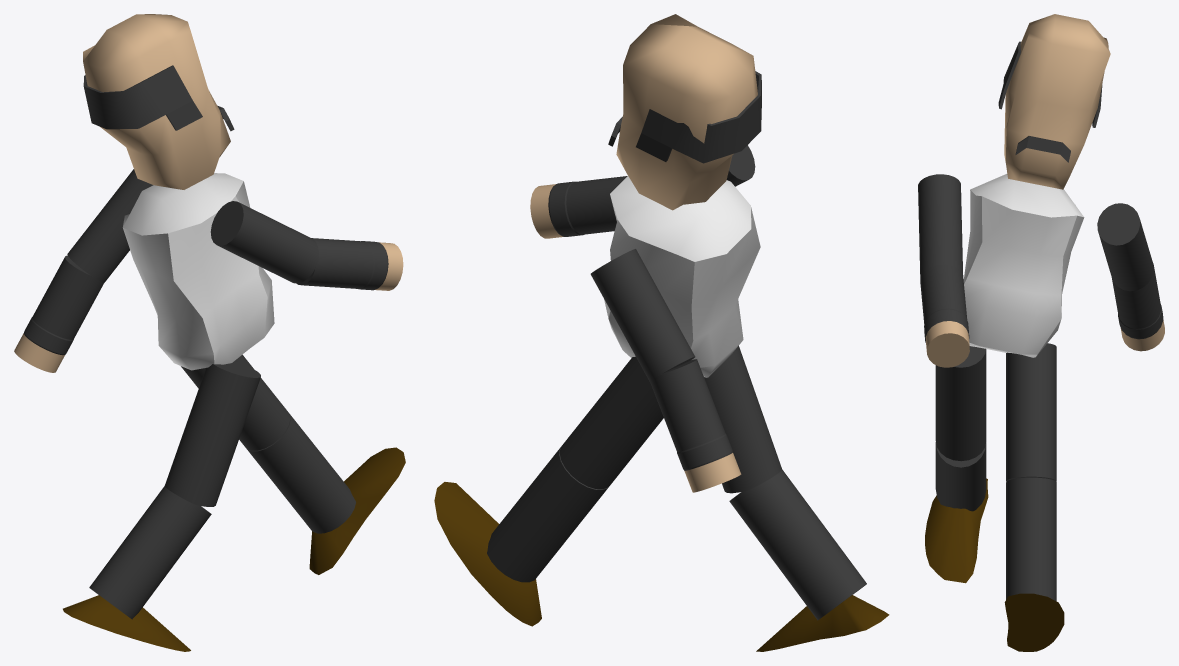
Rendered from Law_Walk_Chr.fbx.
3 views of the same model, side by side, from view 1: azimuth 30°, elevation 25°; view 2: azimuth 150°, elevation 25°; view 3: azimuth 270°, elevation 25° (orthographic). The views are drawn at different scales.
Visible parts, largest first — view 1: polySurface16, polySurface21, pCylinder1, pCylinder3, pCylinder4, pCylinder5, polySurface22, pCone2, pCylinder8, polySurface8, pCone1, polySurface11 (+5 smaller); view 2: polySurface16, polySurface21, pCylinder3, pCylinder4, pCylinder2, pCylinder8, pCone2, pCylinder1, polySurface22, polySurface8, pCone1, polySurface11 (+5 smaller); view 3: polySurface16, polySurface21, pCylinder2, pCylinder4, pCylinder1, pCylinder5, pCone1, pCylinder8, pCone2, pCylinder3, polySurface11, polySurface8 (+6 smaller).
Boxes of the visible parts, bbox=[...] form: polySurface16: bbox=[122, 173, 274, 370]; polySurface21: bbox=[83, 14, 230, 189]; pCylinder1: bbox=[164, 361, 260, 506]; pCylinder3: bbox=[89, 486, 211, 619]; pCylinder4: bbox=[247, 414, 355, 533]; pCylinder5: bbox=[210, 201, 318, 283]; polySurface22: bbox=[83, 65, 202, 130]; pCone2: bbox=[309, 447, 405, 574]; pCylinder8: bbox=[67, 169, 153, 282]; polySurface8: bbox=[32, 255, 103, 339]; pCone1: bbox=[63, 595, 190, 651]; polySurface11: bbox=[297, 238, 373, 288]; polySurface16: bbox=[604, 176, 760, 377]; polySurface21: bbox=[616, 14, 757, 210]; pCylinder3: bbox=[729, 469, 866, 620]; pCylinder4: bbox=[487, 448, 608, 582]; pCylinder2: bbox=[559, 356, 663, 489]; pCylinder8: bbox=[590, 249, 695, 381]; pCone2: bbox=[434, 482, 541, 626]; pCylinder1: bbox=[704, 346, 781, 493]; polySurface22: bbox=[636, 71, 761, 163]; polySurface8: bbox=[650, 359, 725, 451]; pCone1: bbox=[756, 595, 889, 651]; polySurface11: bbox=[566, 176, 627, 234]; polySurface16: bbox=[963, 174, 1084, 357]; polySurface21: bbox=[1004, 14, 1110, 189]; pCylinder2: bbox=[1006, 343, 1056, 481]; pCylinder4: bbox=[1006, 477, 1056, 601]; pCylinder1: bbox=[935, 346, 986, 461]; pCylinder5: bbox=[918, 174, 963, 276]; pCone1: bbox=[925, 478, 988, 583]; pCylinder8: bbox=[1097, 203, 1153, 291]; pCone2: bbox=[1004, 593, 1064, 651]; pCylinder3: bbox=[935, 442, 986, 511]; polySurface11: bbox=[920, 264, 967, 324]; polySurface8: bbox=[1111, 263, 1160, 328].
Bounding box in the file's own units: 3.06 × 4.71 × 1.85.
